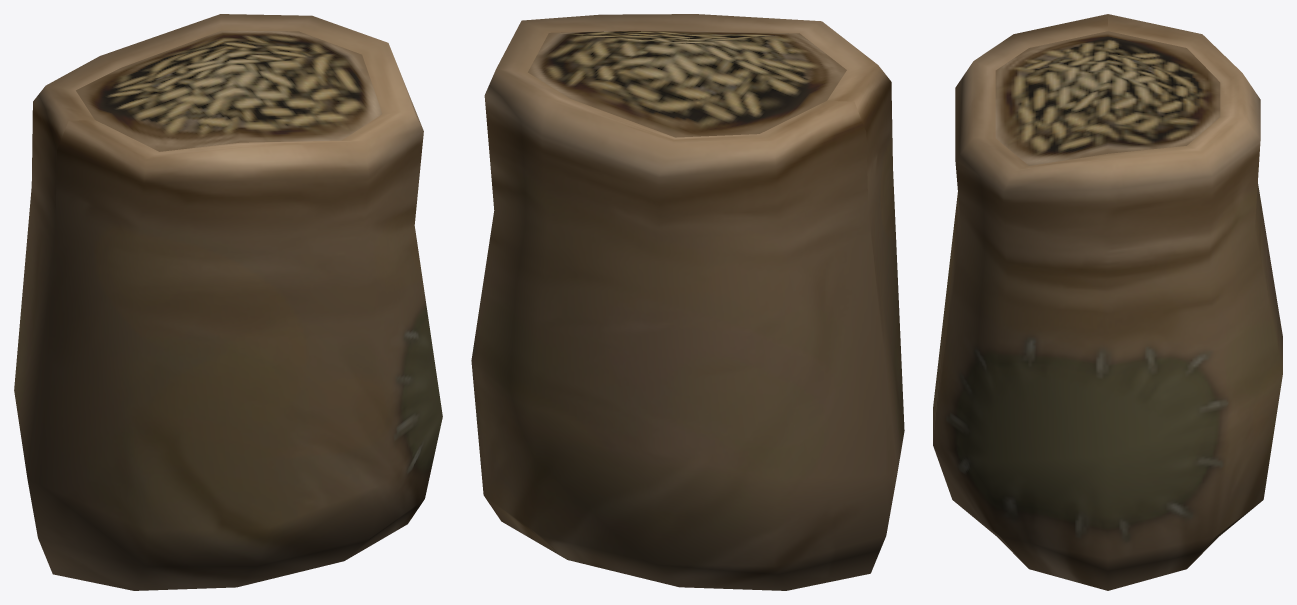
Rendered from Prop_Cargo2.fbx.
3 renders of one model, left to right at view 1: azimuth 30°, elevation 25°; view 2: azimuth 150°, elevation 25°; view 3: azimuth 270°, elevation 25°, orthographic. The views are drawn at different scales.
Parts seen in each view (by area): view 1: polySurface567; view 2: polySurface567; view 3: polySurface567.
Boxes of the visible parts, x1,y1,x2,y2 form: polySurface567: (14,14,442,590); polySurface567: (471,14,904,590); polySurface567: (933,14,1282,590).
Bounding box in the file's own units: 0.8061 × 0.9495 × 0.6488.
1 material, 1 textured.
